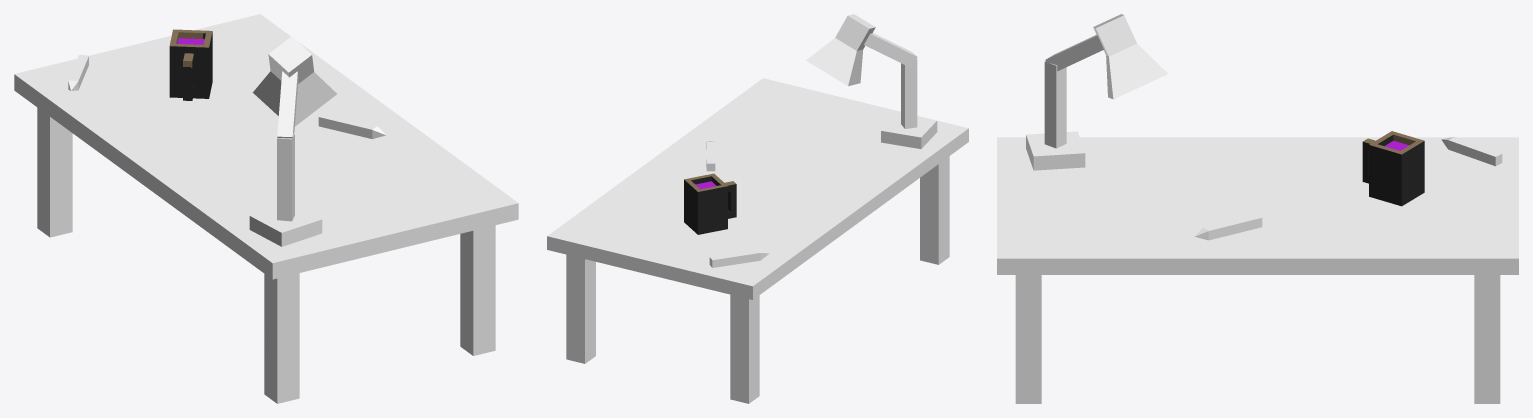
Rendered from ReadingTable_Mesh.fbx.
3 views of the same model, side by side, from view 1: azimuth 30°, elevation 25°; view 2: azimuth 150°, elevation 25°; view 3: azimuth 270°, elevation 25° (orthographic). The views are drawn at different scales.
Parts seen in each view (by area): view 1: ReadingTable, ReadingTable_Lamp, ReadingTable_Mug, ReadingTable_Pencils; view 2: ReadingTable, ReadingTable_Lamp, ReadingTable_Mug, ReadingTable_Pencils; view 3: ReadingTable, ReadingTable_Lamp, ReadingTable_Mug, ReadingTable_Pencils.
Boxes of the visible parts, x1,y1,x2,y2 form: ReadingTable: (14, 14, 518, 403); ReadingTable_Lamp: (249, 36, 336, 246); ReadingTable_Mug: (169, 29, 212, 100); ReadingTable_Pencils: (68, 55, 385, 138); ReadingTable: (547, 78, 968, 403); ReadingTable_Lamp: (806, 14, 937, 148); ReadingTable_Mug: (684, 173, 736, 234); ReadingTable_Pencils: (706, 141, 769, 267); ReadingTable: (997, 137, 1518, 403); ReadingTable_Lamp: (1026, 14, 1167, 170); ReadingTable_Mug: (1362, 131, 1424, 206); ReadingTable_Pencils: (1194, 136, 1502, 240).
Bounding box in the file's own units: 220 × 266 × 400.
